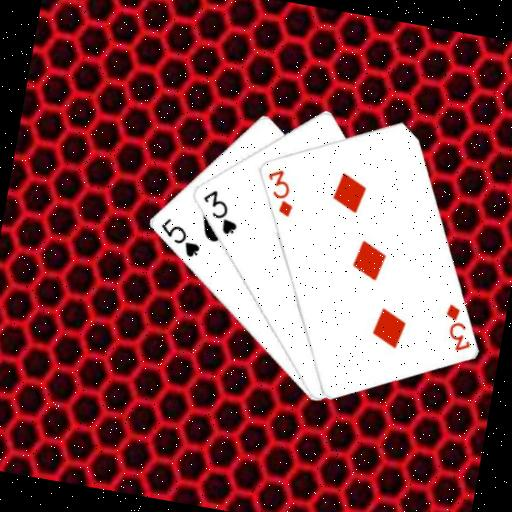3D: (257, 163, 299, 219), (436, 299, 478, 355)
3S: (194, 185, 244, 238)
5S: (152, 213, 205, 261)
